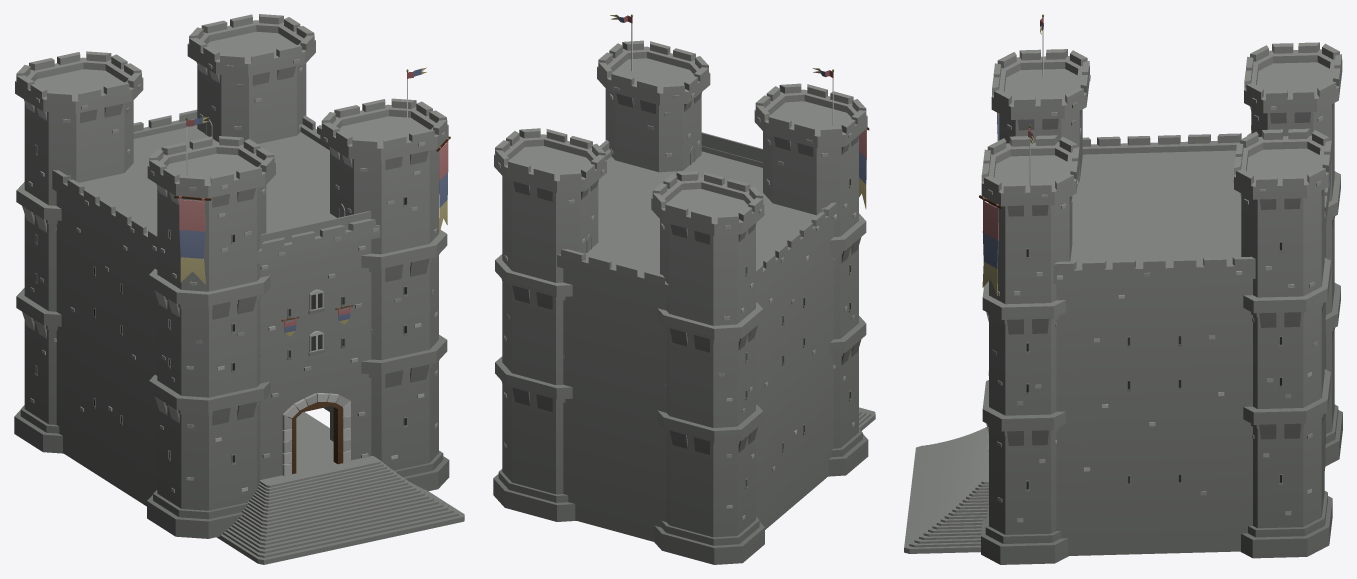
The model's file is kale2.fbx.
3 views of the same model, side by side, from view 1: azimuth 30°, elevation 25°; view 2: azimuth 150°, elevation 25°; view 3: azimuth 270°, elevation 25° (orthographic). The views are drawn at different scales.
Parts seen in each view (by area): view 1: Mountain-2.001; view 2: Mountain-2.001; view 3: Mountain-2.001.
Boxes of the visible parts, box(x1,y1,x2,y2) form: Mountain-2.001: box(14, 14, 464, 564); Mountain-2.001: box(493, 14, 875, 564); Mountain-2.001: box(904, 14, 1342, 564).
Size of the model in its own units: 1477 by 2035 by 1883.
